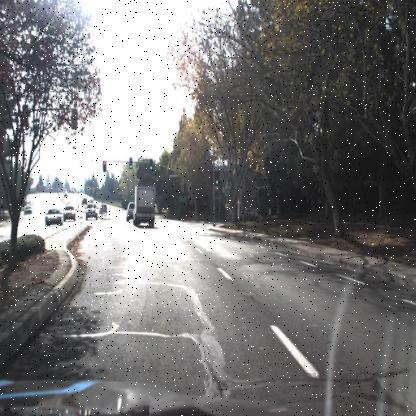car: (40, 206, 66, 229), (125, 198, 138, 223), (126, 199, 136, 222), (98, 204, 108, 214), (24, 206, 32, 216), (80, 196, 87, 206)
trafficLight: (101, 157, 109, 175)
trafficLight-Green: (210, 167, 222, 190), (146, 155, 155, 173), (127, 154, 134, 173)
trafficLight-RedLeft: (102, 158, 107, 173)
truck: (129, 182, 158, 228)
